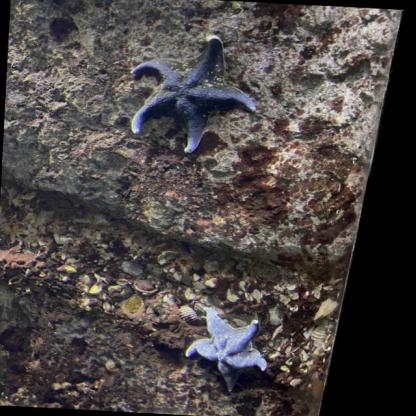starfish: (121, 30, 261, 157), (180, 304, 272, 399)
